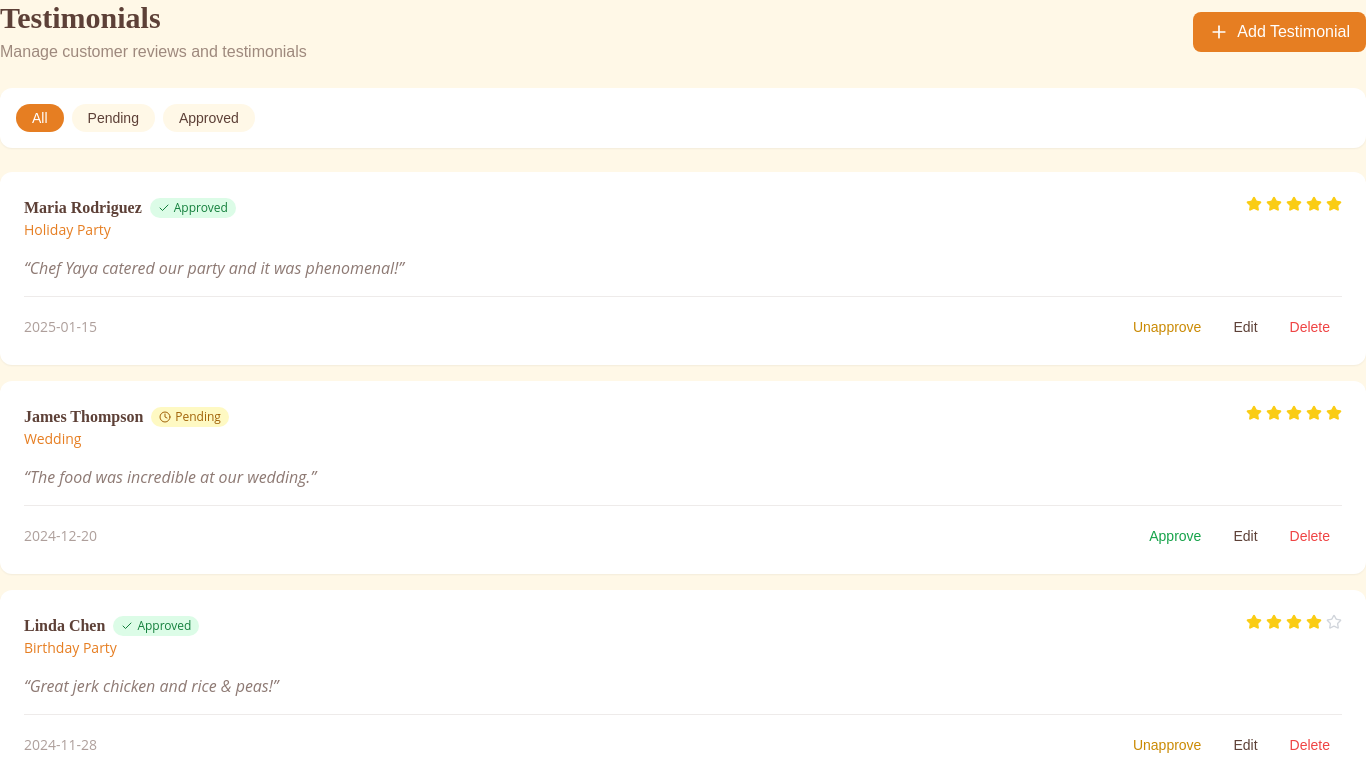
Test: Admin Testimonials Management › filters to show only pending testimonials
Expected: the heading "Maria Rodriguez" is shown, 24,196 -> 142,220
What coordinates should you click on to do the following:
click the button "Pending"
I would click on:
 (113, 118)
Its box is 72,104 -> 155,132.
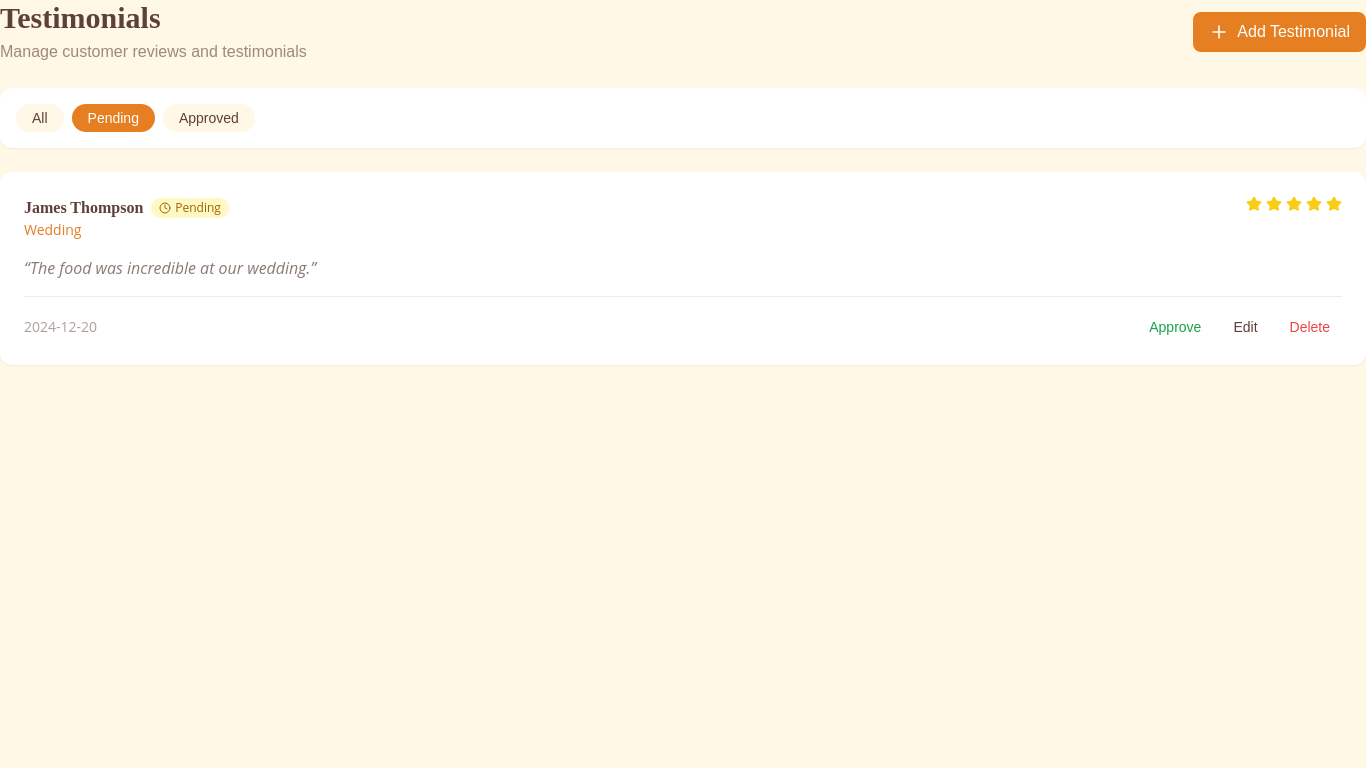
Expected: the heading "James Thompson" is shown, 24,196 -> 143,220
Now the heading "Maria Rodriguez" is gone
Now the heading "Linda Chen" is gone
